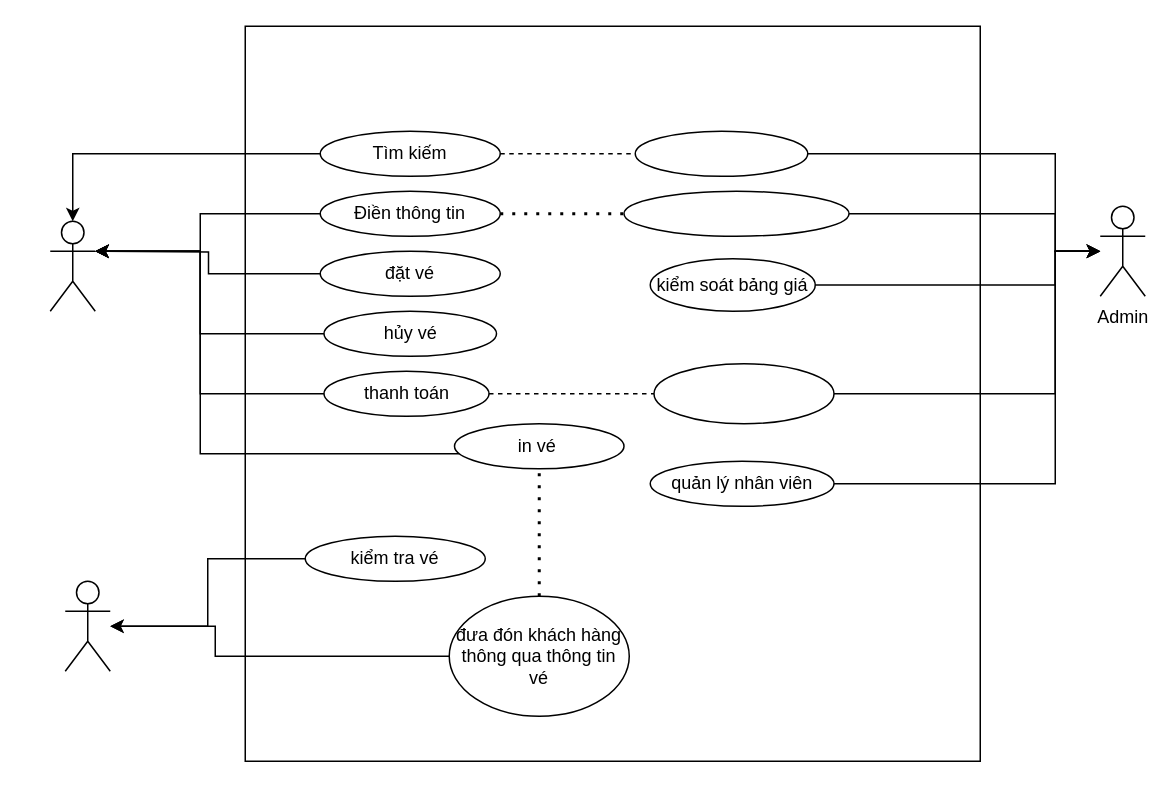
Image size: 1175x788. Some labels were removed from this diagram. The shapes that lost their labels are listed below. From the top down, each one's box as (x1, y1, x2, y2) in pixels, then its label:
(634, 130, 808, 176): thông tin về bus
(622, 190, 849, 236): quản lý khách hàng
(49, 220, 95, 311): khách hàng
(652, 362, 834, 424): Tính toán các khoản phí , thu tiền
(64, 580, 110, 671): Nhân viên
